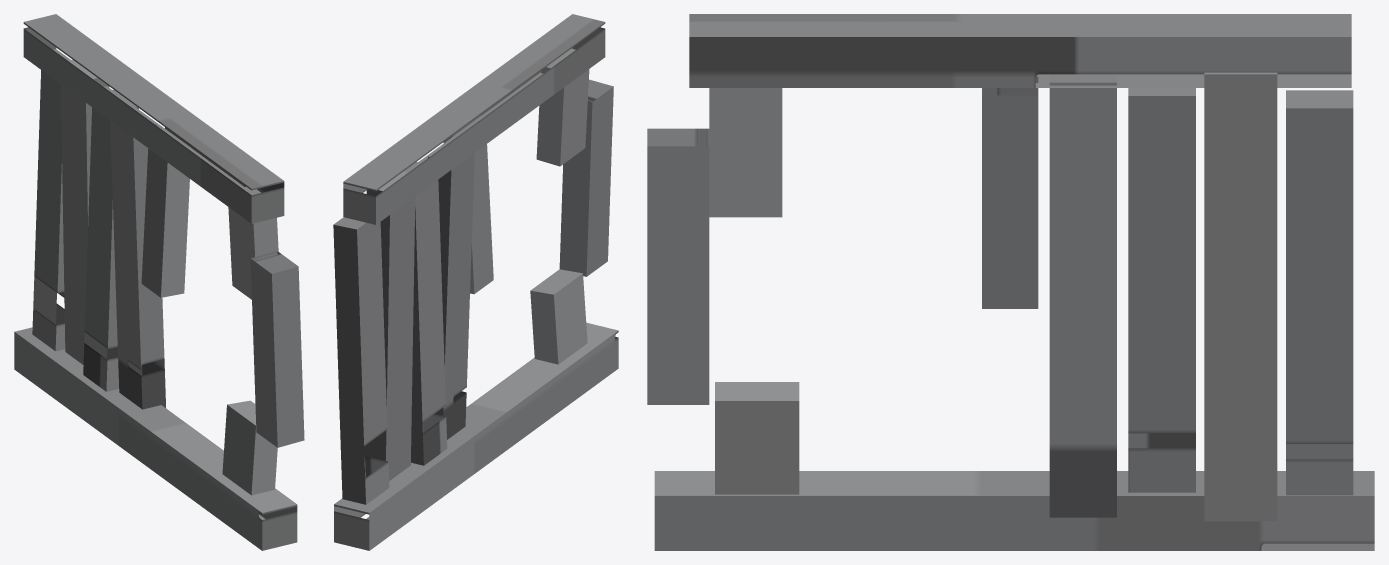
3 views of the same model, side by side, from view 1: azimuth 30°, elevation 25°; view 2: azimuth 150°, elevation 25°; view 3: azimuth 270°, elevation 25° (orthographic). The views are drawn at different scales.
Bounding box in the file's own units: 0.1094 × 0.8554 × 1.1.
